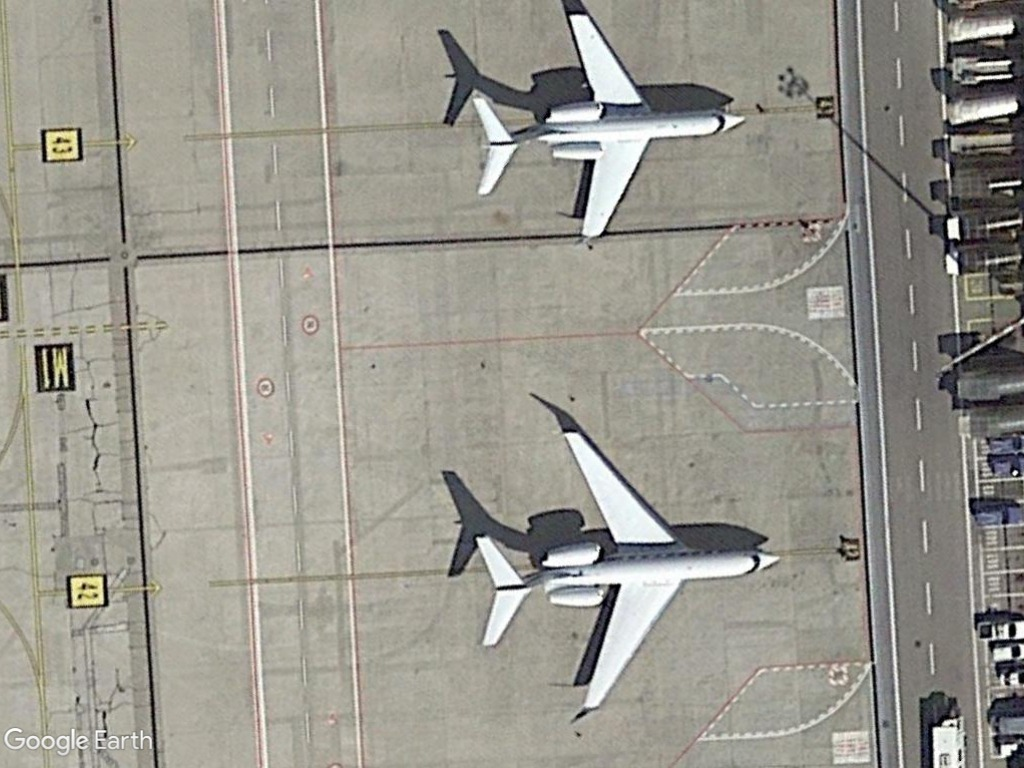chartered: (470, 423, 788, 727), (465, 9, 749, 251)
stairtruck: (947, 48, 1024, 88)
